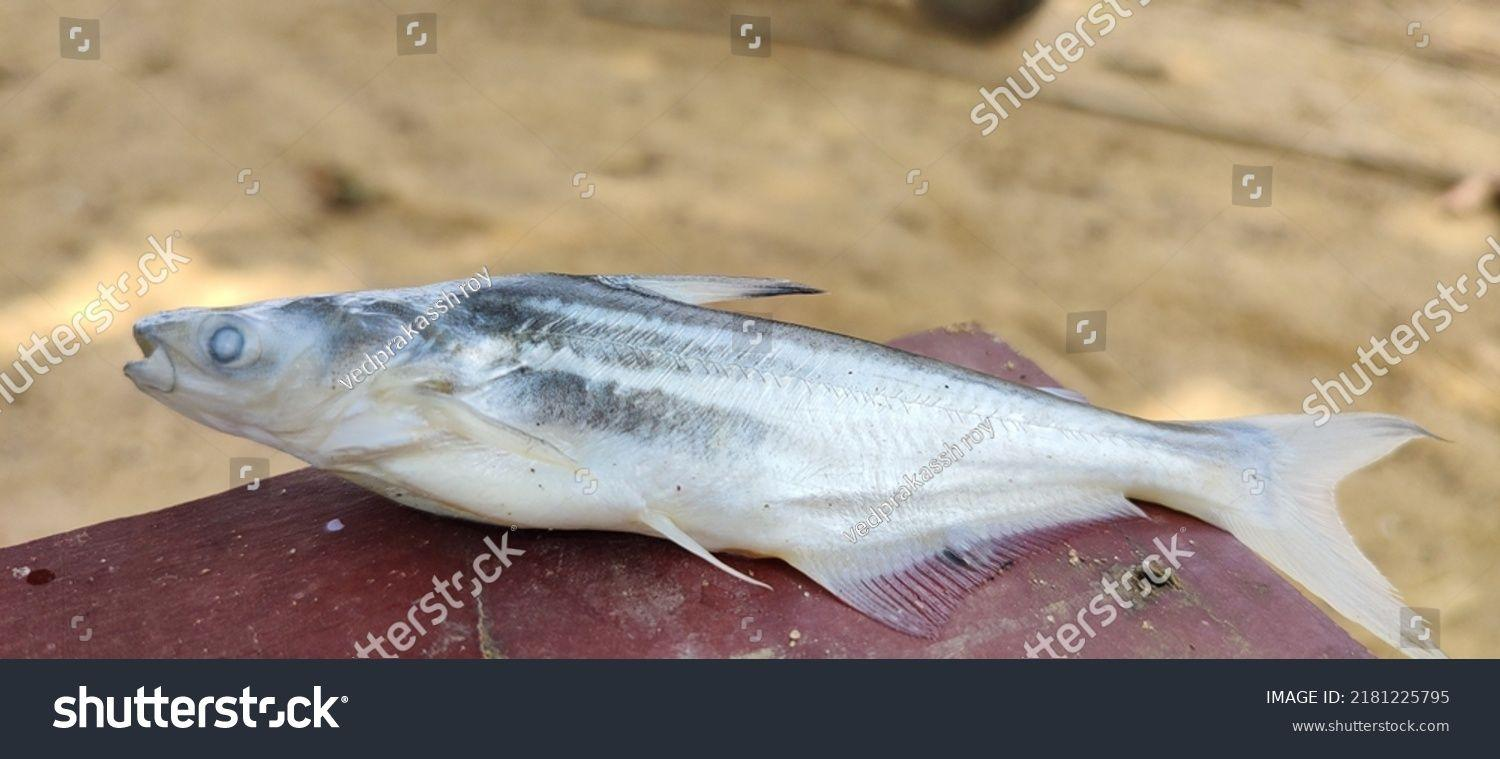Pangasius: (123, 264, 1452, 648)
